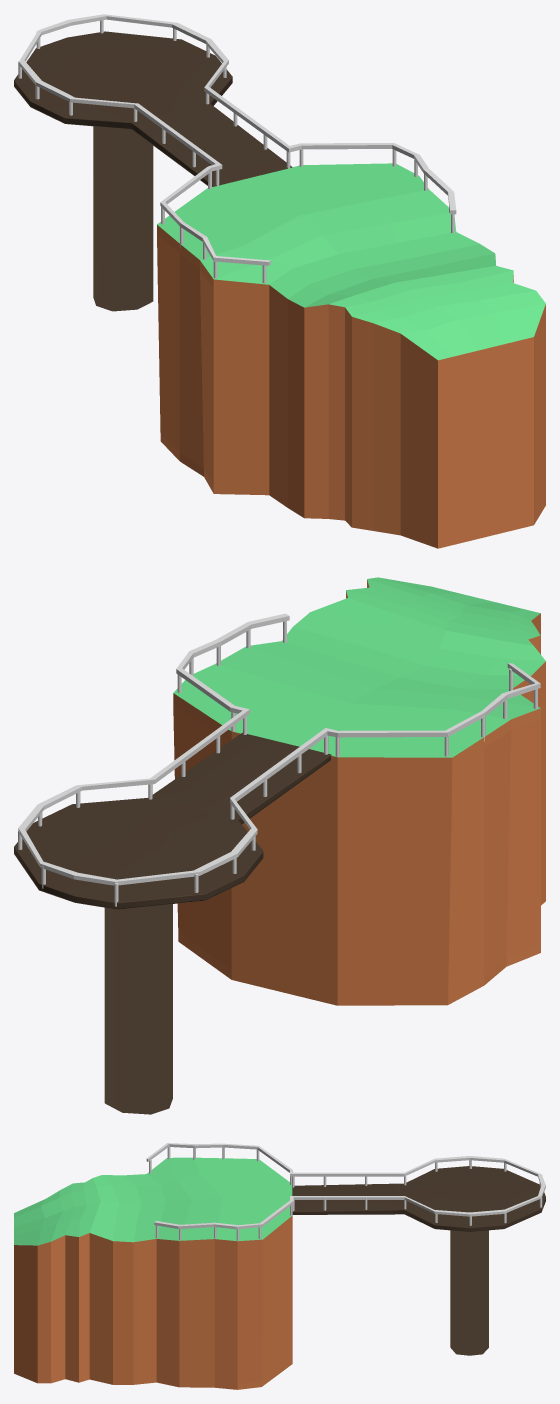
Rendered from Mirador_para_Unity.fbx.
3 renders of one model, top to bottom at view 1: azimuth 30°, elevation 25°; view 2: azimuth 150°, elevation 25°; view 3: azimuth 270°, elevation 25°, orthographic. The views are drawn at different scales.
Visible parts, largest first — view 1: Cube, Cube.001, Cube.002, Cylinder.003; view 2: Cube, Cube.001, Cube.002, Cylinder.003; view 3: Cube, Cube.001, Cube.002, Cylinder.003.
Boxes of the visible parts, bbox=[...] form: Cube: bbox=[157, 163, 545, 548]; Cube.001: bbox=[14, 31, 292, 311]; Cube.002: bbox=[19, 14, 456, 265]; Cylinder.003: bbox=[18, 20, 454, 283]; Cube: bbox=[173, 577, 545, 1005]; Cube.001: bbox=[14, 732, 331, 1114]; Cube.002: bbox=[18, 613, 540, 885]; Cylinder.003: bbox=[18, 621, 537, 906]; Cube: bbox=[14, 1157, 292, 1389]; Cube.001: bbox=[292, 1166, 545, 1355]; Cube.002: bbox=[146, 1143, 545, 1229]; Cylinder.003: bbox=[149, 1145, 542, 1240].
Bounding box in the file's own units: 2380 × 2115 × 6248.
